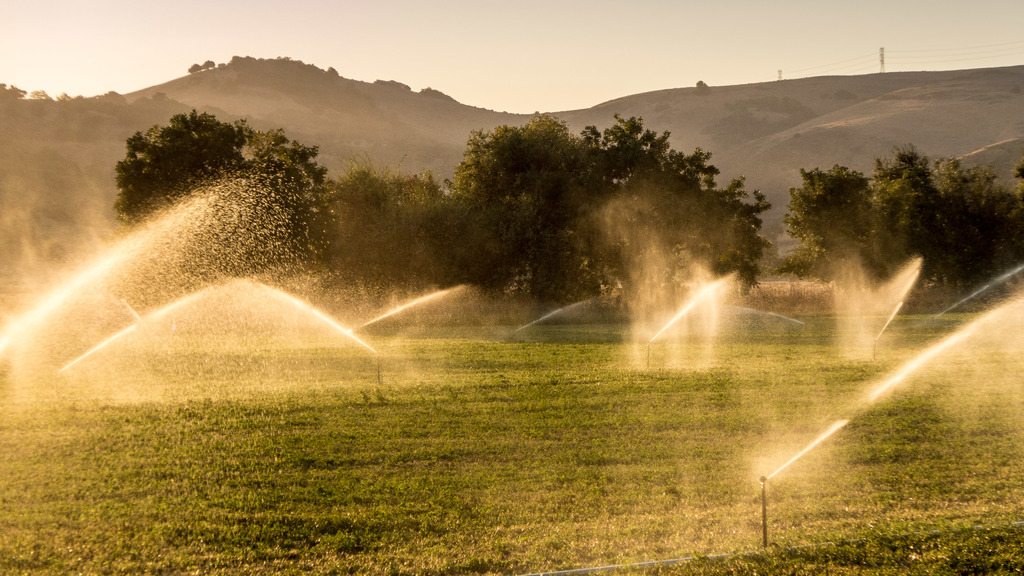Tree: (0, 104, 1023, 321), (186, 51, 337, 75), (366, 76, 454, 101), (0, 80, 30, 110)
